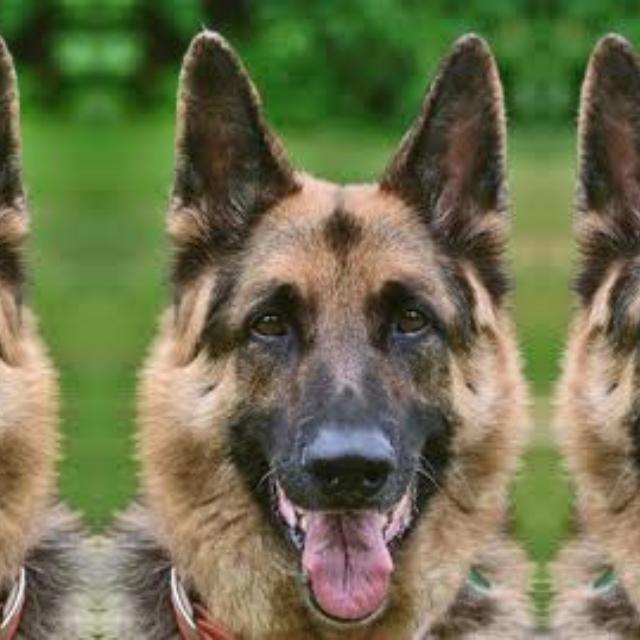dog: (122, 45, 541, 640), (542, 45, 640, 640), (0, 45, 71, 640)
